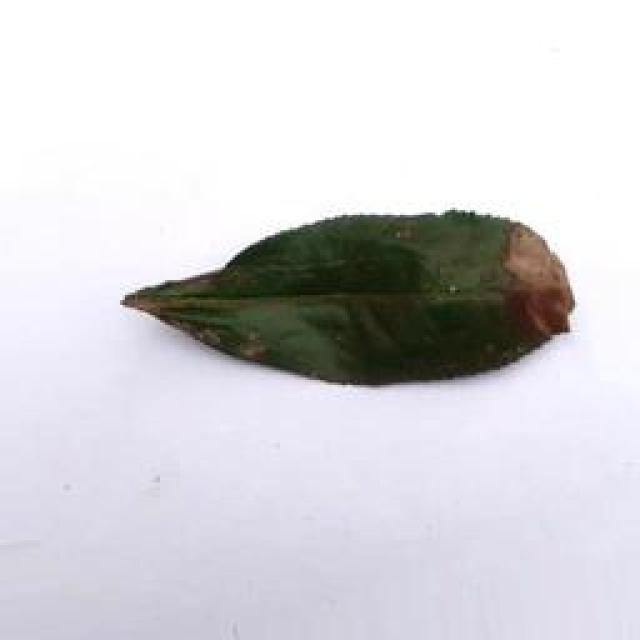Brown Blight: (108, 189, 588, 393)
